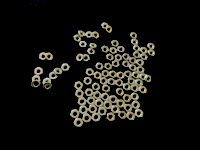nut: (74, 118, 84, 129), (31, 80, 41, 90), (103, 101, 113, 111), (69, 110, 80, 119), (33, 67, 43, 76), (42, 78, 52, 87), (61, 64, 71, 73), (83, 53, 92, 63), (83, 114, 92, 124), (75, 90, 85, 99), (78, 98, 88, 107), (88, 105, 98, 114), (123, 94, 132, 104), (48, 72, 59, 80), (43, 82, 52, 91), (84, 77, 93, 86), (122, 52, 131, 61), (92, 83, 101, 92), (87, 97, 96, 106), (92, 115, 101, 124), (94, 91, 103, 100), (111, 106, 120, 115), (127, 112, 136, 121), (131, 93, 140, 102), (117, 100, 126, 109), (137, 66, 146, 75), (79, 107, 89, 115), (84, 89, 94, 97), (107, 113, 115, 123), (54, 68, 63, 76), (39, 53, 47, 62), (74, 82, 83, 90), (85, 30, 93, 39), (93, 31, 101, 40), (76, 54, 84, 63), (88, 48, 97, 56), (102, 45, 110, 54), (133, 51, 142, 59), (96, 63, 104, 72), (102, 69, 110, 78), (102, 85, 111, 93), (110, 70, 118, 79), (108, 77, 116, 86), (116, 88, 124, 97), (95, 100, 104, 108), (135, 110, 144, 118), (119, 111, 127, 120), (116, 79, 124, 88), (123, 83, 131, 92), (132, 85, 140, 94), (133, 71, 141, 80), (32, 76, 42, 83), (46, 52, 53, 62), (74, 34, 82, 42), (79, 41, 87, 49), (78, 30, 86, 38), (106, 25, 114, 33), (110, 47, 118, 55), (117, 45, 125, 53), (141, 53, 149, 61), (86, 69, 94, 77), (94, 72, 102, 80), (105, 63, 113, 71), (107, 54, 115, 62), (115, 54, 123, 62), (100, 77, 108, 85), (99, 108, 107, 116), (102, 94, 110, 102), (110, 96, 118, 104), (133, 101, 141, 109), (116, 88, 124, 96), (136, 79, 144, 87), (125, 71, 133, 79), (130, 32, 139, 39), (147, 50, 156, 57), (112, 61, 121, 68), (140, 86, 147, 95), (124, 60, 131, 69), (90, 42, 98, 49), (112, 40, 120, 47), (131, 39, 139, 46), (133, 45, 141, 52), (141, 46, 148, 54), (130, 57, 137, 65), (137, 59, 145, 66), (118, 72, 125, 80), (125, 105, 133, 112), (128, 78, 135, 86), (146, 75, 152, 84), (102, 23, 109, 30), (148, 43, 155, 50), (140, 74, 147, 81), (130, 65, 137, 72), (90, 43, 98, 49)
